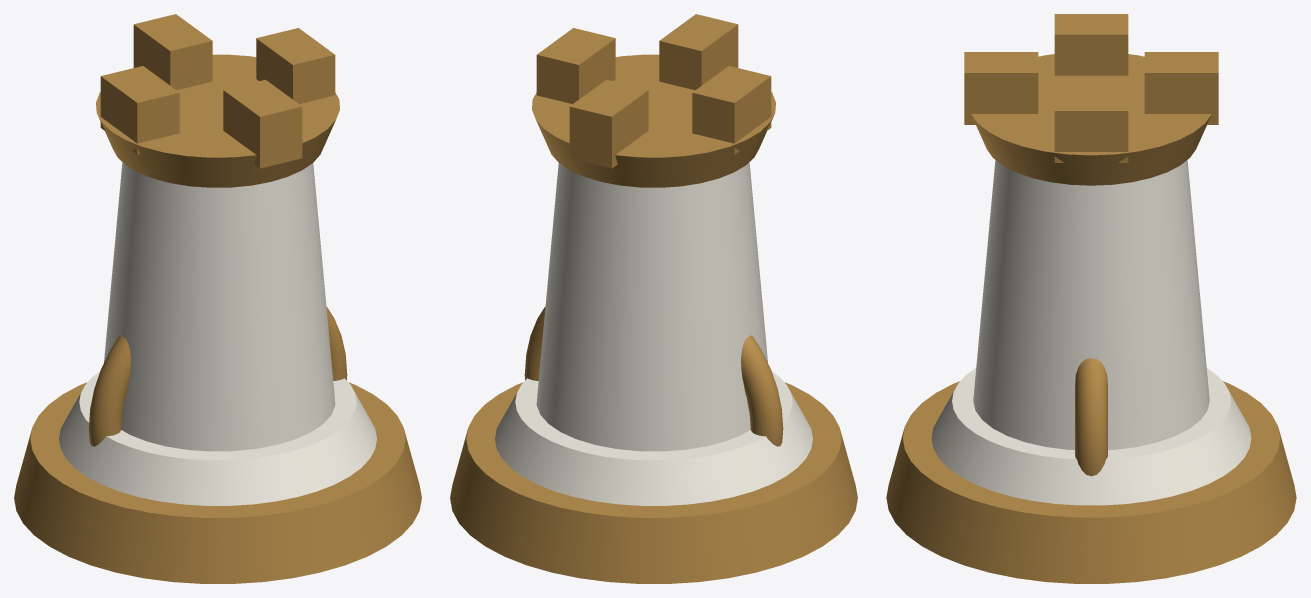
3 views of the same model, side by side, from view 1: azimuth 30°, elevation 25°; view 2: azimuth 150°, elevation 25°; view 3: azimuth 270°, elevation 25° (orthographic).
Size of the model in its own units: 0.9972 by 1.27 by 1.
